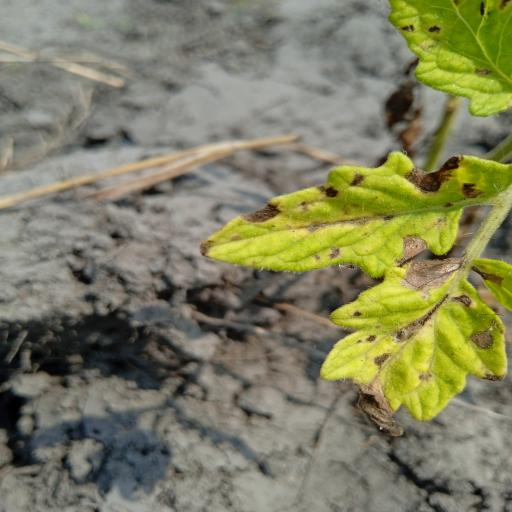Tomato_Brown_Spots: (195, 137, 512, 281), (321, 254, 512, 417)
